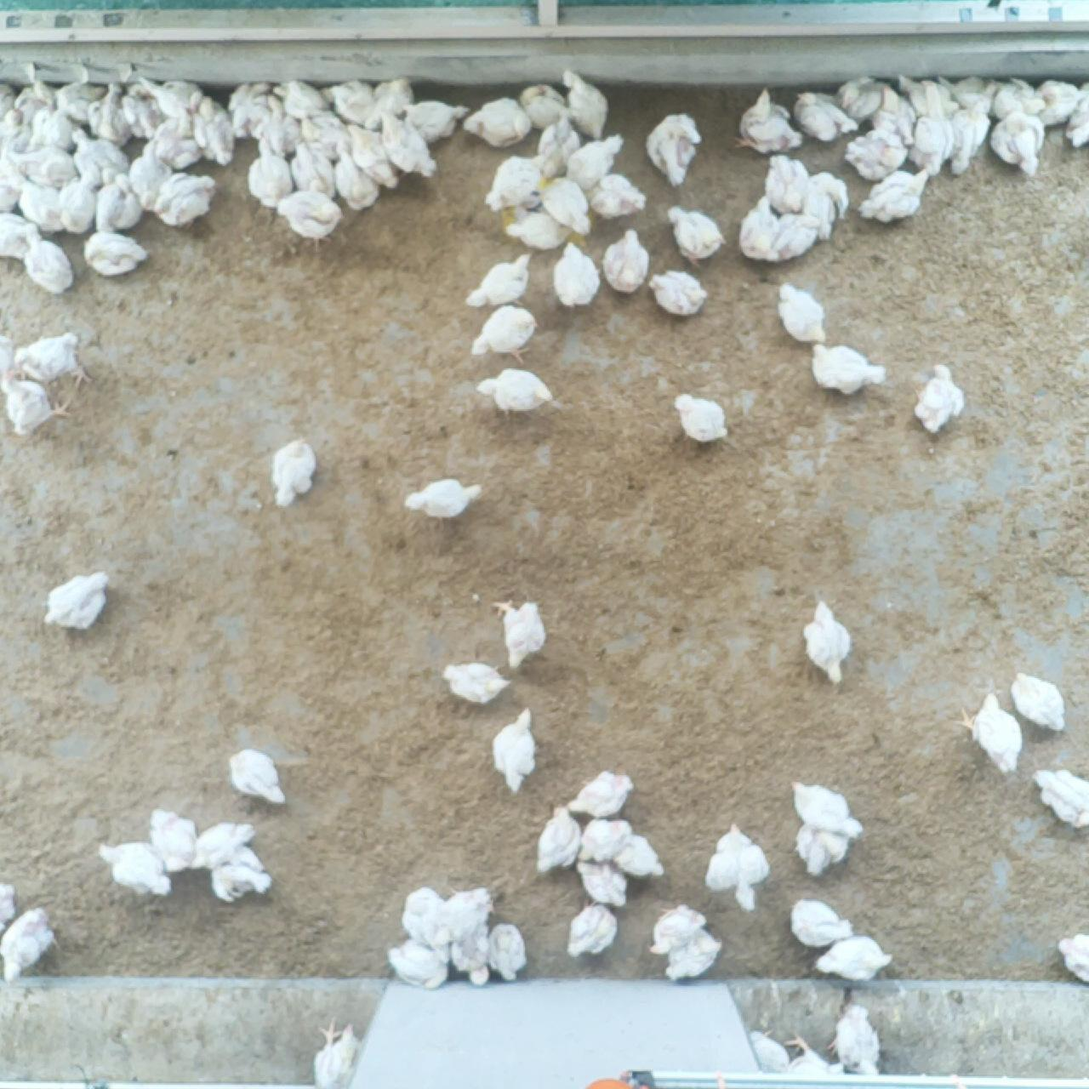chicken: (703, 818, 774, 912), (954, 685, 1024, 779), (11, 329, 97, 394), (274, 178, 348, 253), (728, 86, 808, 154), (641, 105, 704, 190), (805, 338, 889, 399), (786, 776, 866, 840), (800, 595, 855, 688), (0, 904, 65, 982), (94, 836, 175, 898), (0, 374, 77, 439), (806, 928, 898, 982), (482, 152, 556, 219), (376, 107, 441, 182), (40, 566, 112, 633), (491, 700, 540, 798), (908, 77, 955, 179), (345, 118, 408, 194), (856, 166, 935, 226), (14, 217, 74, 296), (458, 250, 534, 312), (468, 302, 541, 365), (330, 133, 386, 215), (822, 1000, 884, 1074), (491, 596, 549, 672), (435, 884, 500, 951), (913, 358, 968, 437), (398, 883, 452, 963), (559, 65, 614, 143), (665, 205, 731, 270), (986, 109, 1048, 178), (152, 167, 221, 229), (661, 921, 728, 984), (563, 763, 637, 820), (1031, 760, 1089, 832), (1007, 668, 1071, 733), (475, 367, 555, 419), (266, 433, 318, 513), (312, 1008, 363, 1089), (944, 96, 994, 178), (6, 137, 80, 192), (402, 474, 483, 524), (845, 124, 912, 184), (244, 134, 299, 207), (535, 172, 594, 240), (772, 277, 830, 346), (462, 95, 534, 150), (528, 107, 583, 179), (550, 239, 603, 313), (584, 168, 652, 225), (148, 802, 201, 875), (801, 166, 851, 243), (227, 744, 288, 807), (532, 804, 586, 875), (188, 818, 259, 872), (565, 893, 621, 961), (789, 87, 858, 141), (439, 657, 513, 707), (91, 169, 146, 236), (565, 129, 623, 192), (642, 901, 707, 957), (599, 227, 653, 294), (83, 225, 150, 279), (248, 90, 301, 158), (791, 818, 851, 878), (70, 124, 131, 183), (386, 936, 451, 991), (670, 392, 734, 447), (788, 897, 857, 948), (870, 83, 921, 152), (128, 136, 174, 212), (57, 162, 106, 233), (647, 266, 712, 319), (189, 94, 237, 165), (398, 97, 472, 143), (24, 91, 78, 153), (17, 173, 68, 238), (503, 205, 573, 252), (761, 151, 812, 215), (88, 79, 134, 149), (448, 924, 496, 991), (736, 191, 781, 262), (574, 857, 630, 913), (210, 857, 274, 906), (484, 920, 532, 985), (289, 138, 339, 199), (834, 71, 892, 123), (300, 106, 358, 158), (785, 1030, 850, 1076), (575, 815, 637, 863), (324, 74, 380, 127), (896, 71, 963, 115), (222, 76, 270, 137), (1033, 76, 1089, 128), (119, 79, 165, 140), (366, 74, 417, 129), (154, 106, 198, 169), (518, 77, 569, 131), (273, 73, 331, 120), (617, 832, 668, 882), (777, 209, 824, 263), (142, 75, 205, 115), (59, 72, 108, 122), (992, 74, 1046, 119), (938, 70, 997, 111), (12, 72, 60, 117), (749, 1026, 791, 1075), (1054, 929, 1089, 984), (0, 211, 36, 263), (1063, 77, 1089, 148), (0, 150, 27, 214), (0, 105, 30, 160), (0, 876, 17, 933), (0, 331, 14, 383), (0, 79, 17, 120)
